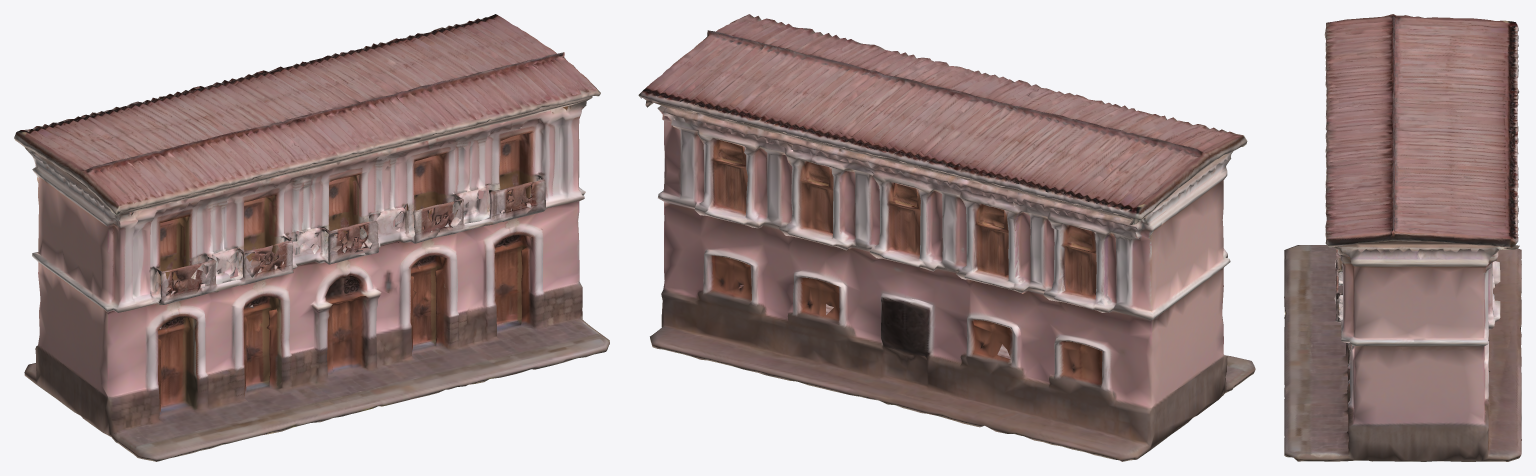
The model's file is casa3.fbx.
3 renders of one model, left to right at view 1: azimuth 30°, elevation 25°; view 2: azimuth 150°, elevation 25°; view 3: azimuth 270°, elevation 25°, orthographic. The views are drawn at different scales.
Parts seen in each view (by area): view 1: input; view 2: input; view 3: input.
Part boxes in pixels (bbox=[...]): input: bbox=[14, 14, 609, 461]; input: bbox=[638, 14, 1255, 461]; input: bbox=[1284, 14, 1521, 461].
Bounding box in the file's own units: 191 × 95.35 × 87.3.
1 material, 1 textured.
